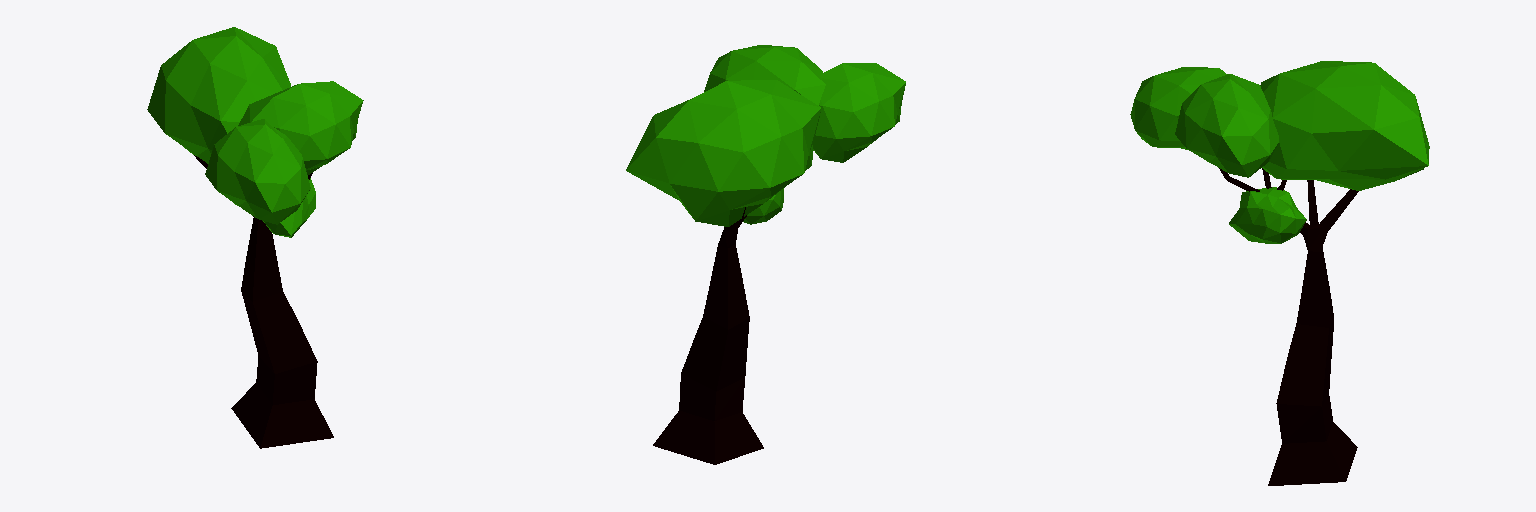
File: polytree1.obj
3 views of the same model, side by side, from view 1: azimuth 30°, elevation 25°; view 2: azimuth 150°, elevation 25°; view 3: azimuth 270°, elevation 25° (orthographic).
Parts seen in each view (by area): view 1: Cube_Cube.001, Icosphere.001, Icosphere, Icosphere.002, Icosphere.003; view 2: Icosphere.001, Cube_Cube.001, Icosphere, Icosphere.002, Icosphere.003; view 3: Icosphere.001, Cube_Cube.001, Icosphere.002, Icosphere, Icosphere.003.
Boxes of the visible parts, x1,y1,x2,y2 form: Cube_Cube.001: [194, 155, 333, 448]; Icosphere.001: [147, 27, 290, 163]; Icosphere: [205, 119, 310, 224]; Icosphere.002: [238, 81, 363, 174]; Icosphere.003: [263, 178, 315, 237]; Icosphere.001: [626, 80, 821, 226]; Cube_Cube.001: [653, 207, 763, 464]; Icosphere: [813, 63, 905, 162]; Icosphere.002: [704, 45, 825, 105]; Icosphere.003: [743, 188, 783, 224]; Icosphere.001: [1260, 61, 1429, 190]; Cube_Cube.001: [1219, 168, 1358, 485]; Icosphere.002: [1175, 74, 1278, 177]; Icosphere: [1130, 67, 1226, 149]; Icosphere.003: [1229, 187, 1306, 243].
Size of the model in its own units: 2.5 by 5.61 by 3.9.